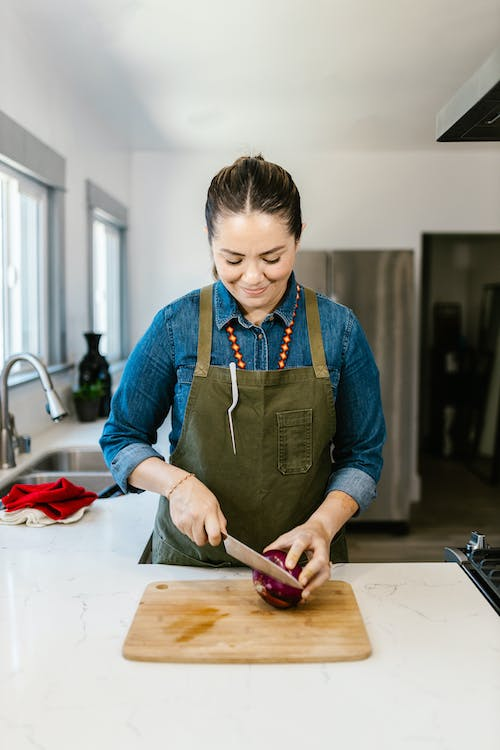knife: (219, 528, 305, 592)
